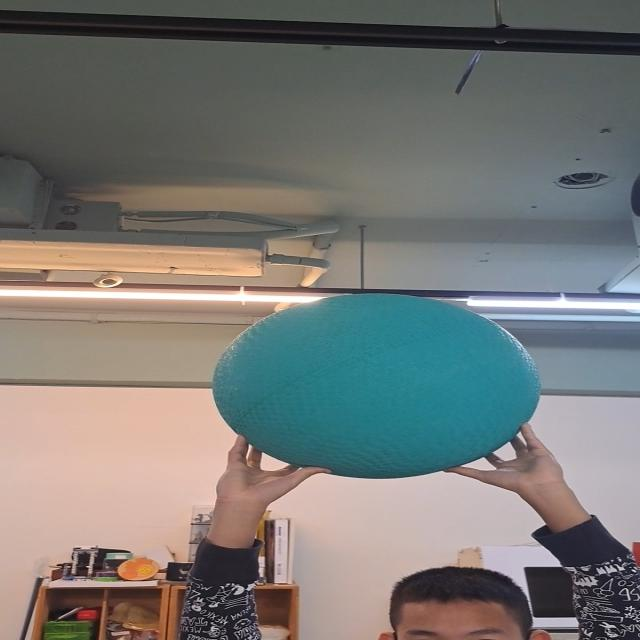ALGAE: (213, 294, 542, 478)
